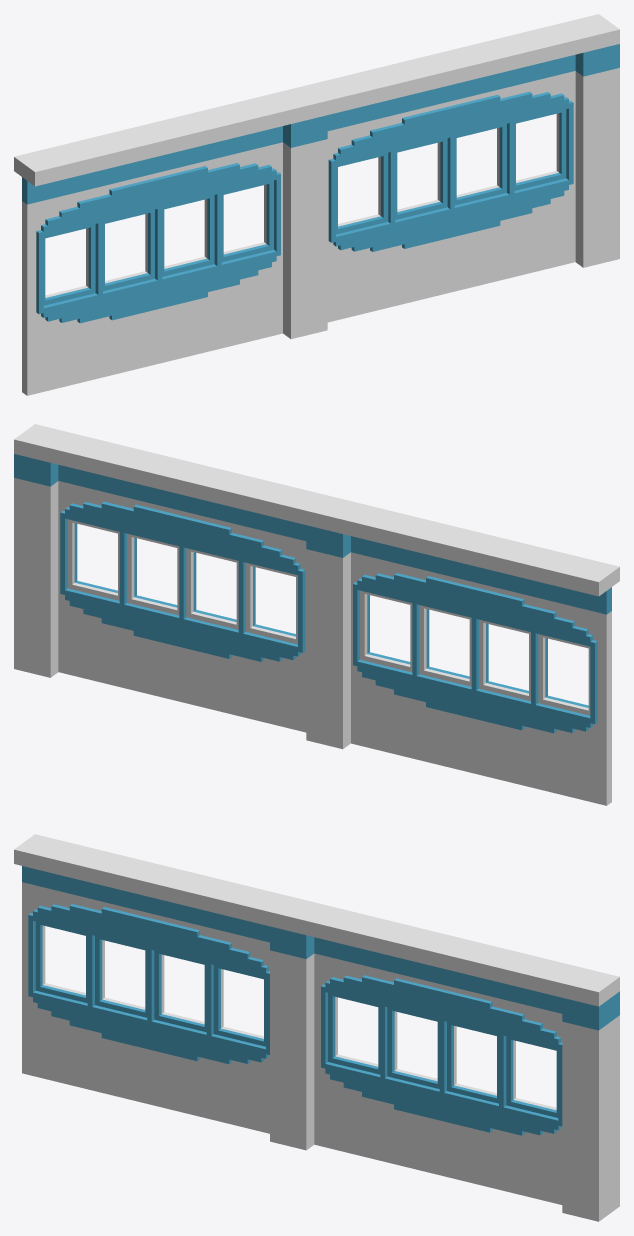
Rendered from inside_classroom_window.obj.
3 renders of one model, top to bottom at view 1: azimuth 30°, elevation 25°; view 2: azimuth 150°, elevation 25°; view 3: azimuth 330°, elevation 25°, orthographic.
Size of the model in its own units: 12.8 by 4.8 by 0.8.
1 material, 1 textured.
